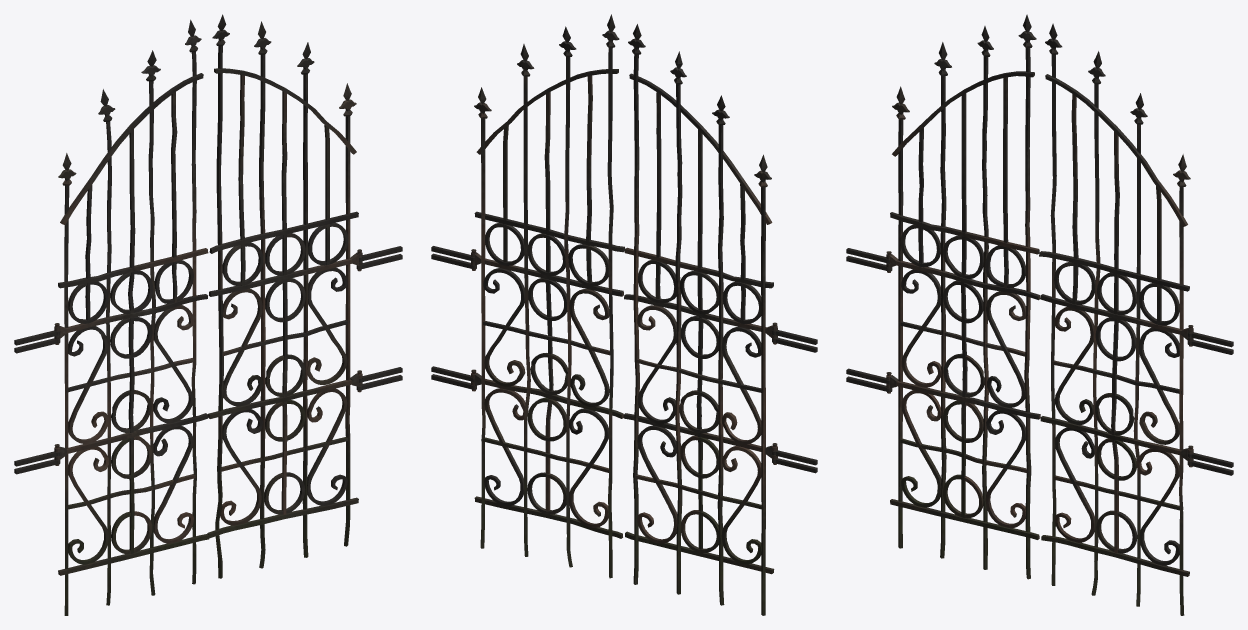
File: Iron_Gate.fbx
The picture shows the model from 3 angles, left to right: view 1: azimuth 30°, elevation 25°; view 2: azimuth 150°, elevation 25°; view 3: azimuth 330°, elevation 25°; orthographic projection.
Parts seen in each view (by area): view 1: Iron_Gate_R, Iron_Gate_L, Iron_Gate_hinge_L, Iron_Gate_hinge_R; view 2: Iron_Gate_L, Iron_Gate_R, Iron_Gate_hinge_L, Iron_Gate_hinge_R; view 3: Iron_Gate_L, Iron_Gate_R, Iron_Gate_hinge_R, Iron_Gate_hinge_L.
Part boxes in pixels (x1,y1,x2,y2): Iron_Gate_R: (207,14,362,578); Iron_Gate_L: (54,19,209,615); Iron_Gate_hinge_L: (14,323,60,474); Iron_Gate_hinge_R: (356,246,402,392); Iron_Gate_L: (623,24,777,615); Iron_Gate_R: (471,14,625,578); Iron_Gate_hinge_L: (772,322,817,473); Iron_Gate_hinge_R: (431,246,476,391); Iron_Gate_L: (886,14,1040,579); Iron_Gate_R: (1039,23,1193,615); Iron_Gate_hinge_R: (1187,325,1233,475); Iron_Gate_hinge_L: (846,248,892,393).
Size of what is drawn, in the model's own units: 414 by 579 by 13.76.
